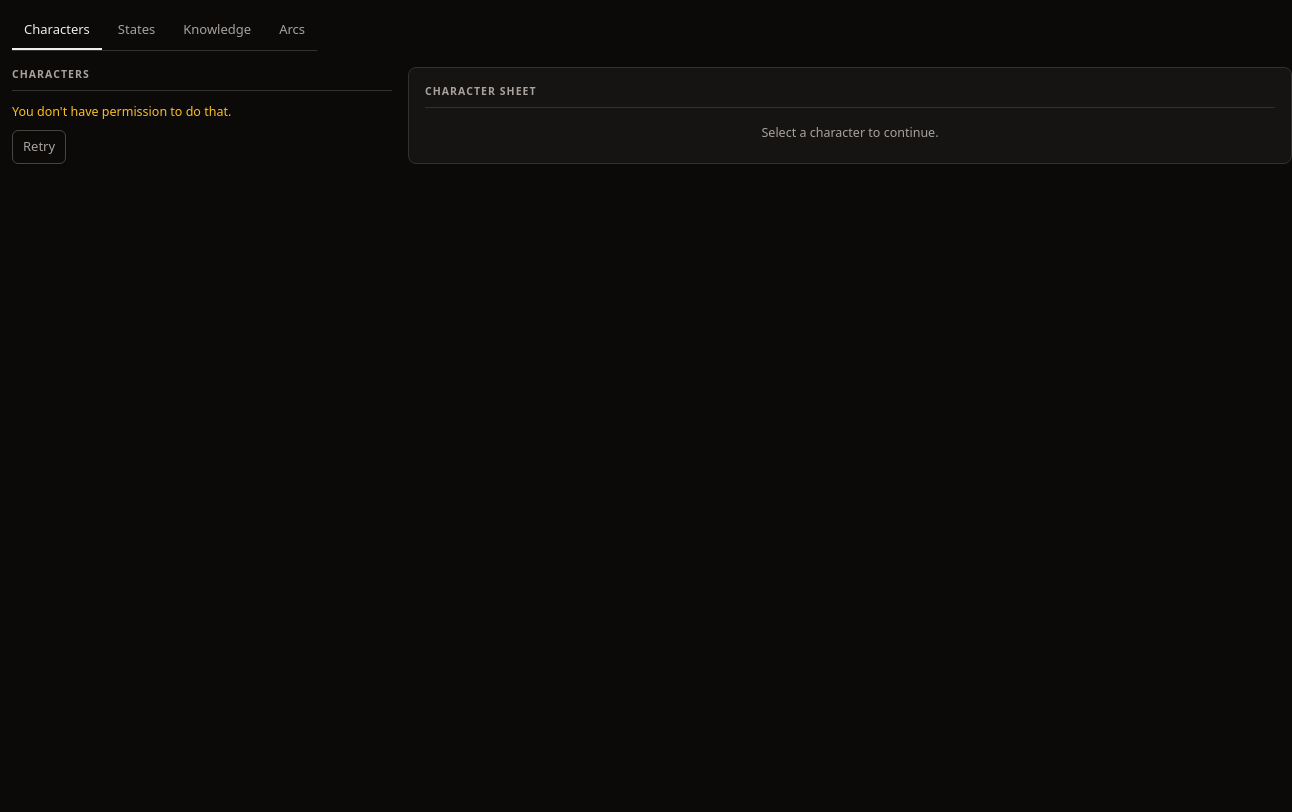
Test: CharacterPanel › shows an error with retry on 403 and recovers
What coordinates should you click on to do the following:
click the button "Retry"
I would click on:
 (39, 147)
Its box is [12,130,66,164].
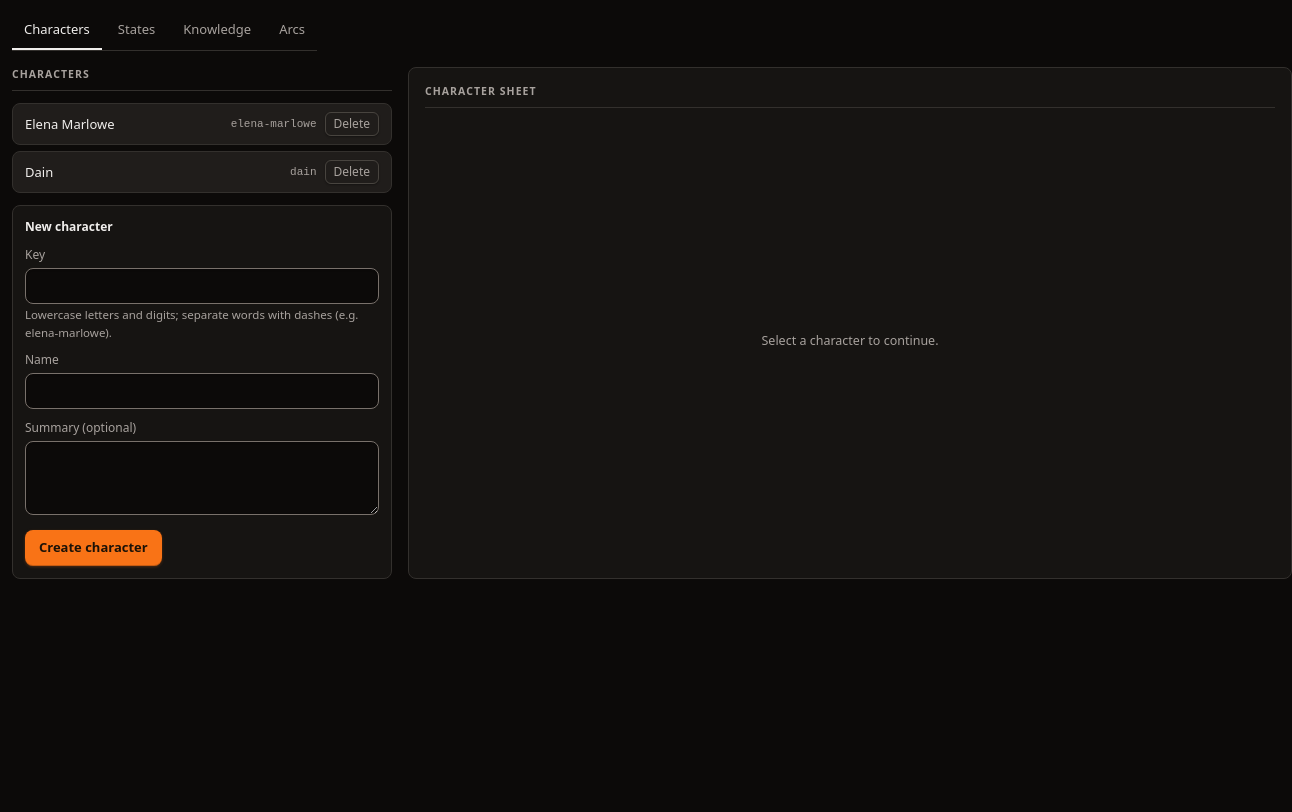
Check: the text "Elena Marlowe" is shown, box [25,112,223,136]
